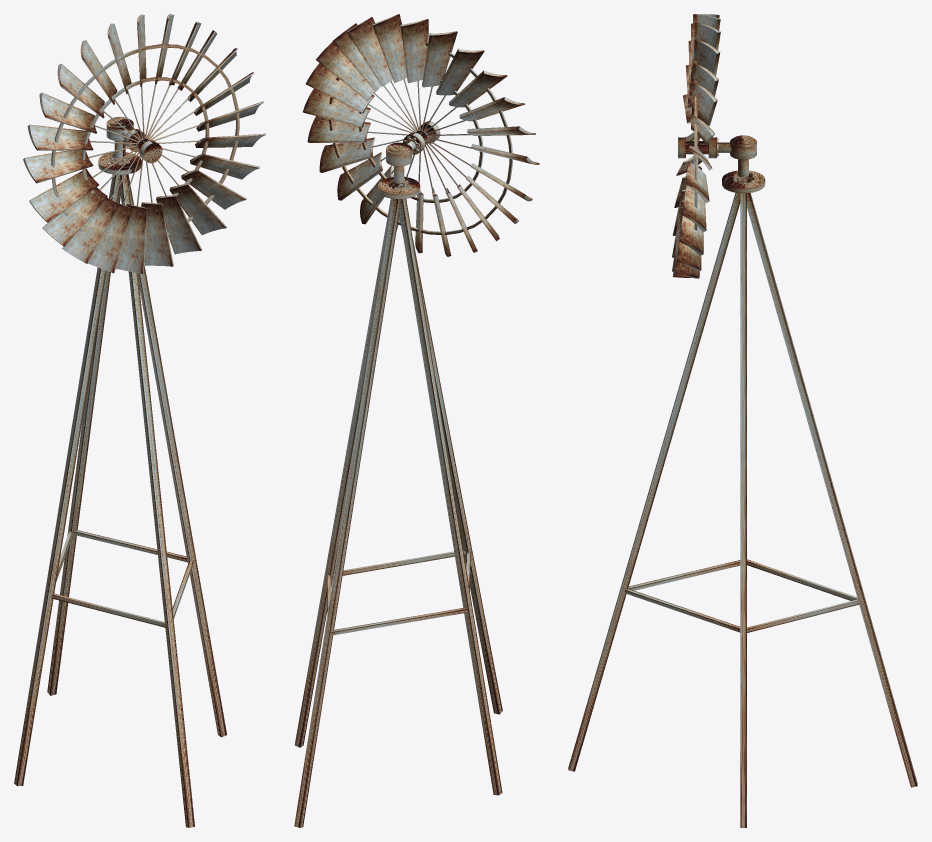
The model's file is windmill.FBX.
3 views of the same model, side by side, from view 1: azimuth 30°, elevation 25°; view 2: azimuth 150°, elevation 25°; view 3: azimuth 270°, elevation 25° (orthographic). The views are drawn at different scales.
Visible parts, largest first — view 1: Box028, Box026, Box025, Box027, Box024, Tube002, Box023, Box022, Box021, Box020, Box019, Box001 (+16 smaller); view 2: Box027, Box026, Box025, Box028, Box007, Box008, Box009, Box006, Box012, Box011, Box013, Box014 (+13 smaller); view 3: Box027, Box028, Box025, Box029, Box014, Box010, Box031, Box032, Box030, Cylinder035, Box015, Box008.
Part boxes in pixels (x1,y1,x2,y2): Box028: (119, 174, 194, 827); Box026: (14, 174, 119, 786); Box025: (128, 174, 226, 737); Box027: (47, 189, 120, 695); Box024: (29, 168, 98, 222); Tube002: (51, 44, 239, 235); Box023: (42, 187, 107, 246); Box022: (62, 197, 119, 263); Box021: (88, 201, 132, 273); Box020: (116, 204, 147, 274); Box019: (141, 202, 173, 266); Box001: (23, 150, 93, 183); Box027: (294, 199, 399, 827); Box026: (399, 198, 502, 795); Box025: (294, 181, 393, 747); Box028: (399, 214, 502, 714); Box007: (400, 19, 428, 83); Box008: (372, 14, 406, 82); Box009: (347, 17, 392, 86); Box006: (422, 31, 457, 87); Box012: (305, 63, 374, 113); Box011: (316, 41, 378, 100); Box013: (303, 88, 370, 127); Box014: (307, 116, 370, 142); Box027: (747, 193, 917, 787); Box028: (568, 192, 740, 771); Box025: (740, 176, 746, 827); Box029: (625, 588, 740, 632); Box014: (682, 184, 706, 232); Box010: (692, 82, 717, 125); Box031: (747, 559, 857, 600); Box032: (747, 599, 859, 632); Box030: (628, 560, 740, 590); Cylinder035: (722, 170, 765, 193); Box015: (679, 215, 703, 255); Box008: (694, 39, 720, 75).
Size of the model in its own units: 98.11 by 307 by 129.
1 material, 1 textured.
